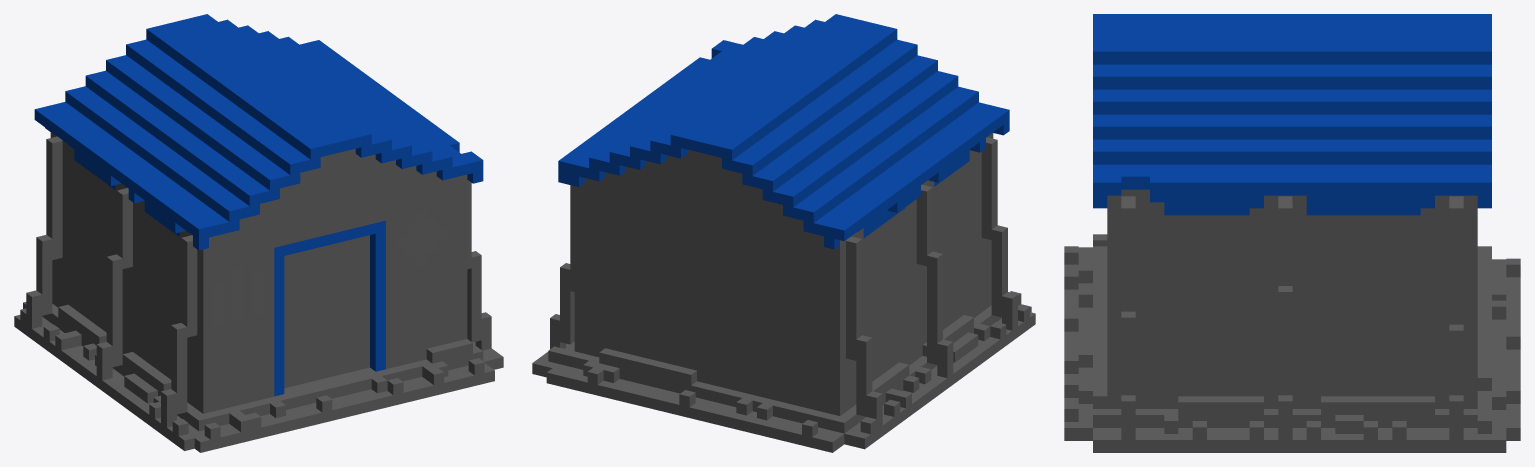
Rendered from bld_house7a.obj.
The picture shows the model from 3 angles, left to right: view 1: azimuth 30°, elevation 25°; view 2: azimuth 150°, elevation 25°; view 3: azimuth 270°, elevation 25°; orthographic projection. The views are drawn at different scales.
Size of the model in its own units: 32 by 25 by 32.
